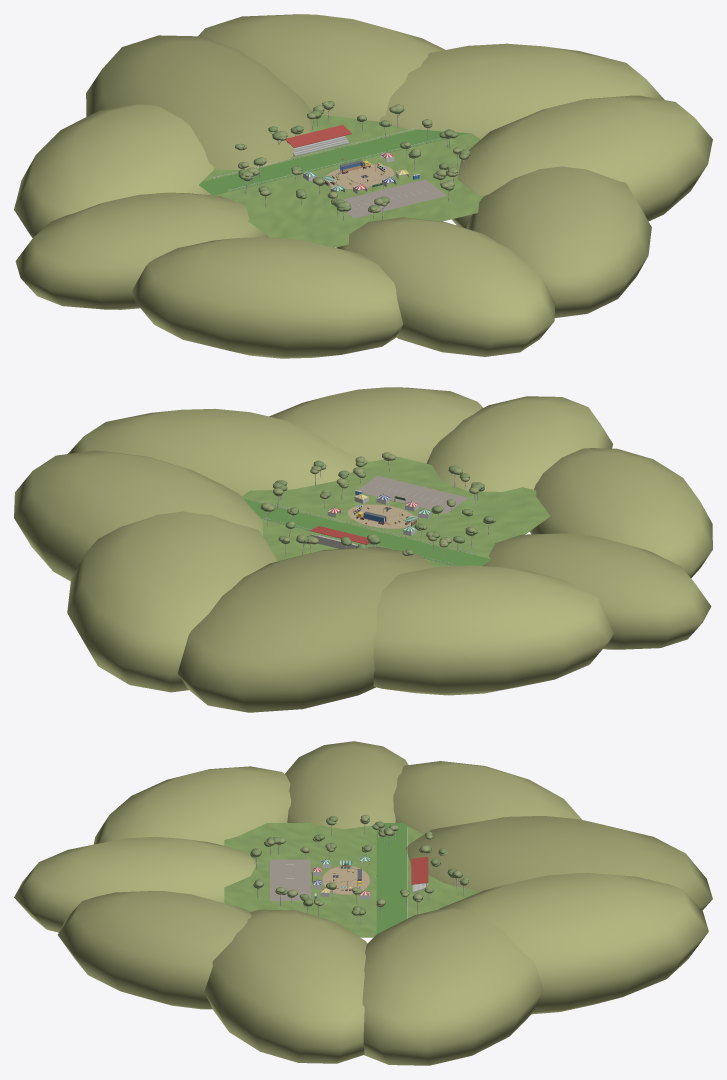
File: colac_cup.glb
3 renders of one model, top to bottom at view 1: azimuth 30°, elevation 25°; view 2: azimuth 150°, elevation 25°; view 3: azimuth 270°, elevation 25°, orthographic. The views are drawn at different scales.
Visible parts, largest first — view 1: Decor, walk_ground, Trees, Marquees; view 2: Decor, walk_ground, Trees, Marquees; view 3: Decor, walk_ground, Trees.
Part boxes in pixels (x1,y1,x2,y2): Decor: [14, 14, 712, 358]; walk_ground: [202, 114, 483, 247]; Trees: [235, 101, 470, 221]; Marquees: [303, 151, 409, 194]; Decor: [14, 387, 712, 712]; walk_ground: [242, 456, 550, 567]; Trees: [260, 452, 495, 557]; Marquees: [327, 494, 431, 535]; Decor: [14, 741, 712, 1065]; walk_ground: [224, 823, 479, 937]; Trees: [250, 814, 468, 923].
Size of what is drawn, in the model's own units: 413 by 68.27 by 413.
Materials: 12 (7 with a texture image).
